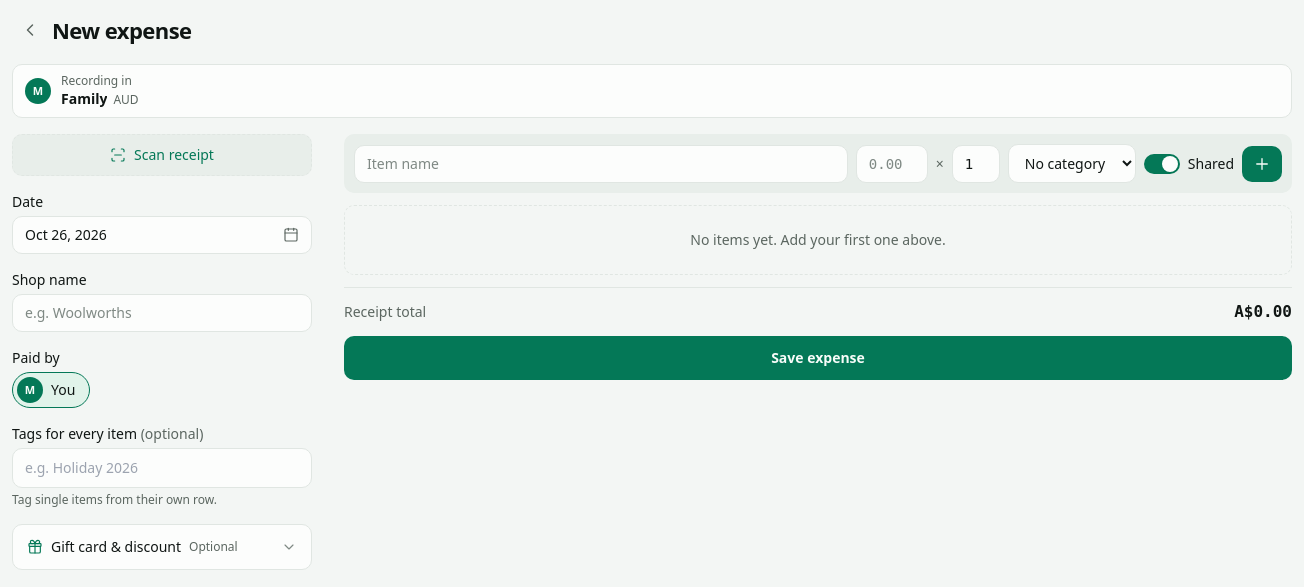
Test: ExpenseEditor (hybrid) › adds an item via the quick-add bar as a collapsed row
In the dropdown with placeholder "Item name": (601, 164) [354,144,848,182], type "Cherry"
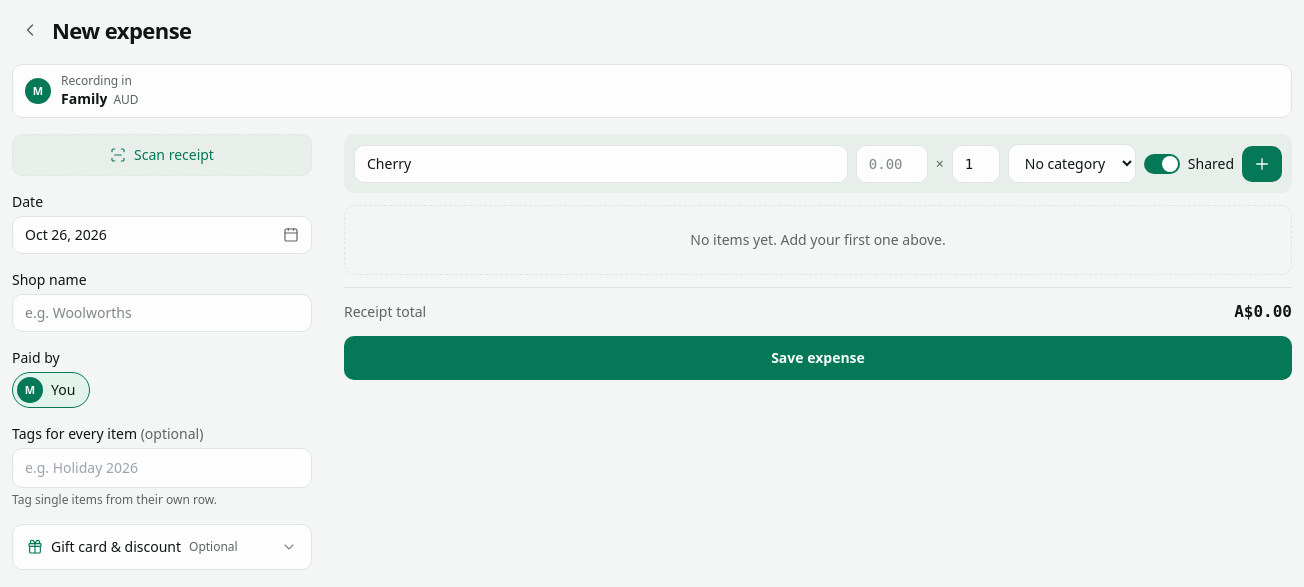
In the field named "unit price": (892, 164) [856,144,928,182], type "3.00"
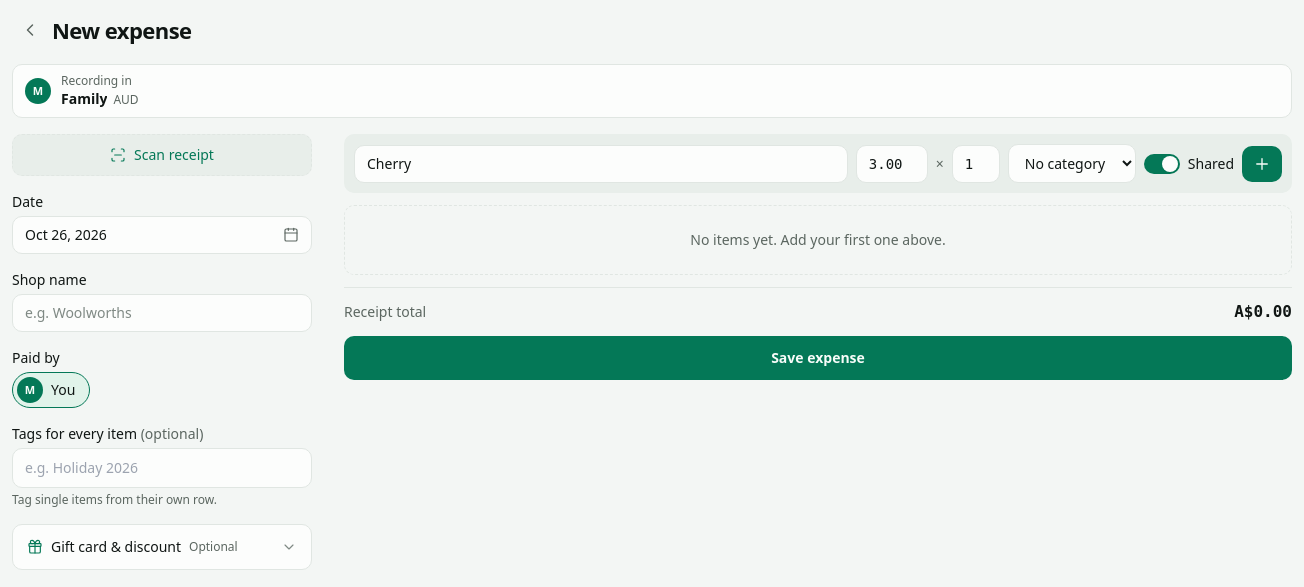
Click the button named "add item": (1262, 164) [1242,146,1282,182]
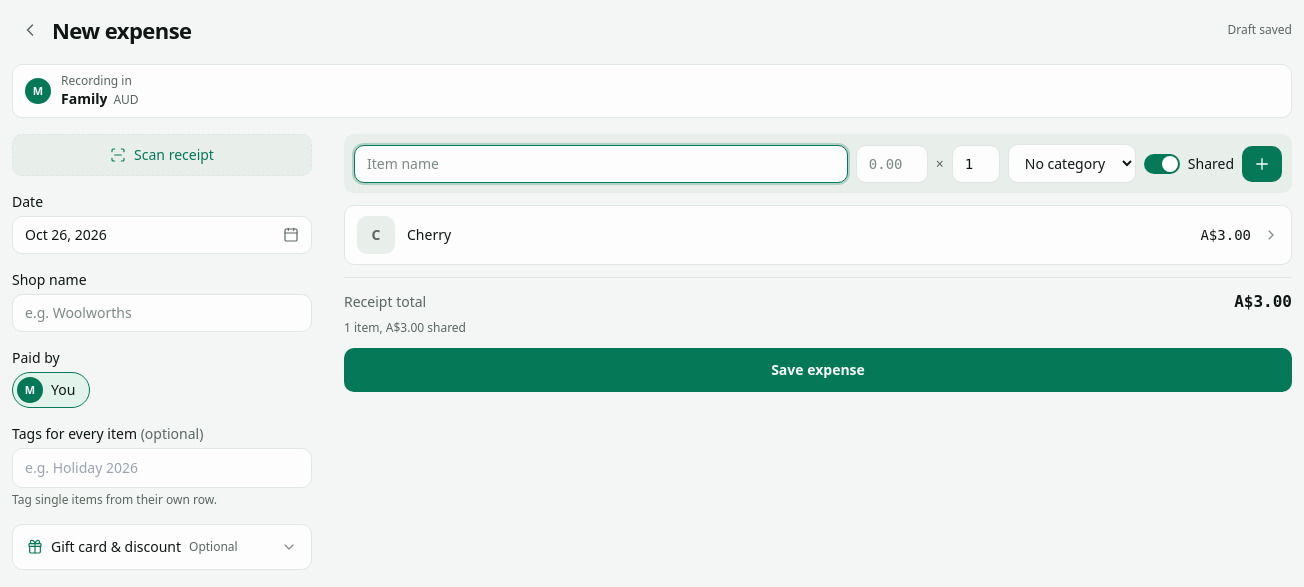
Expected: the button "C Cherry A$3.00" is shown, [345,206,1291,264]
Expected: the text "No items yet" is gone
